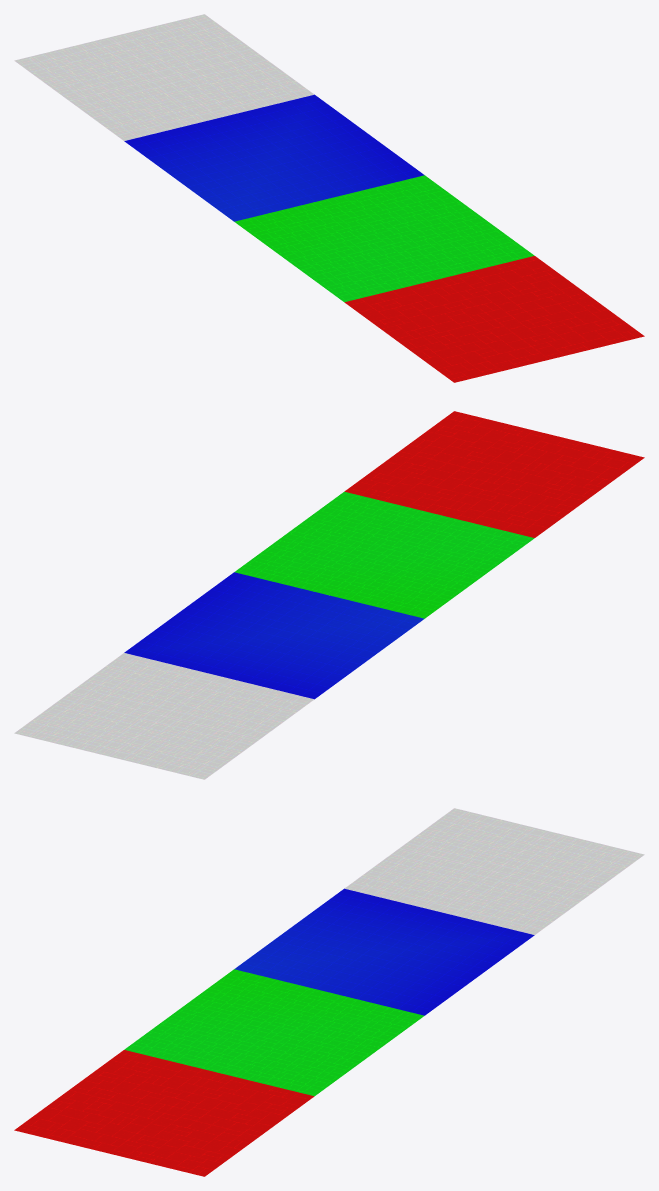
The model's file is Road.gltf.
3 views of the same model, one above another, from view 1: azimuth 30°, elevation 25°; view 2: azimuth 150°, elevation 25°; view 3: azimuth 330°, elevation 25° (orthographic).
Parts seen in each view (by area): view 1: SideWalk_A, SideWalk_C, SideWalk_B, Road; view 2: SideWalk_A, SideWalk_C, SideWalk_B, Road; view 3: SideWalk_A, SideWalk_C, SideWalk_B, Road.
Part boxes in pixels (x1,y1,x2,y2): SideWalk_A: [344, 256, 644, 382]; SideWalk_C: [124, 94, 424, 221]; SideWalk_B: [234, 175, 534, 302]; Road: [14, 14, 314, 140]; SideWalk_A: [344, 411, 644, 537]; SideWalk_C: [124, 572, 424, 699]; SideWalk_B: [234, 491, 534, 618]; Road: [14, 653, 314, 779]; SideWalk_A: [14, 1050, 314, 1176]; SideWalk_C: [234, 888, 534, 1015]; SideWalk_B: [124, 969, 424, 1096]; Road: [344, 808, 644, 934].
Bounding box in the file's own units: 6 × 4.47e-06 × 24.
Materials: 1 (1 with a texture image).
